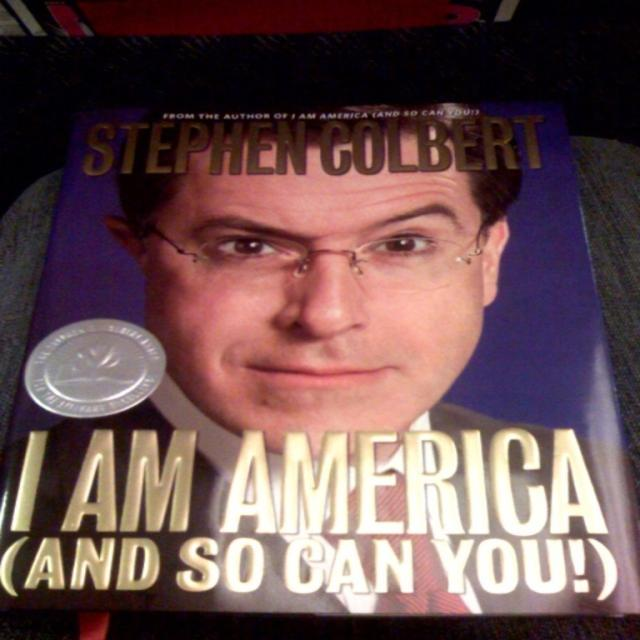Coin: (21, 318, 169, 419)
